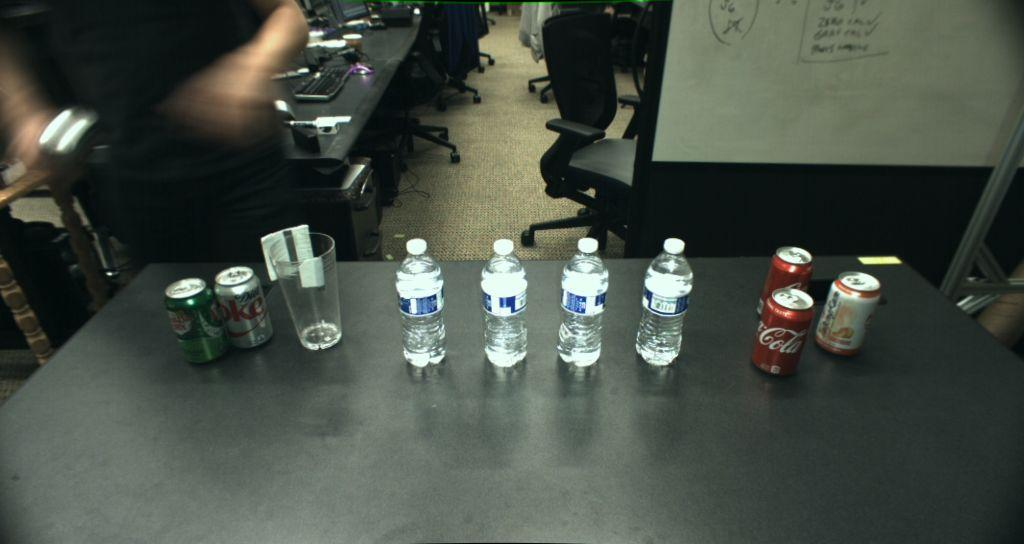can_coke: (750, 288, 813, 378)
can_diet_coke: (212, 265, 274, 350)
can_ginger_ale: (165, 276, 230, 366)
can_talking_rain_peach_nectarine: (816, 269, 881, 358)
water_bottle: (635, 238, 693, 366), (557, 237, 608, 367), (396, 238, 446, 367), (480, 239, 527, 367)
